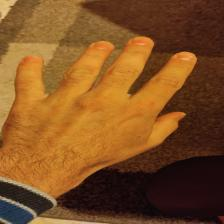five: (15, 35, 195, 164)
